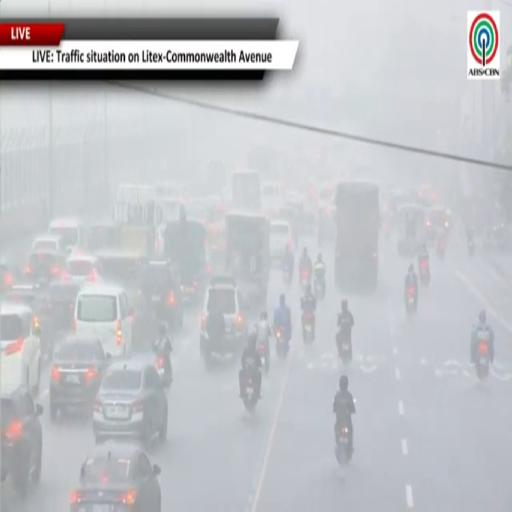car: (70, 442, 161, 511), (93, 360, 167, 442), (49, 338, 110, 421), (0, 387, 43, 494), (75, 284, 133, 357), (200, 277, 248, 362), (0, 301, 41, 393), (5, 283, 52, 356), (140, 262, 183, 328), (44, 281, 81, 335), (24, 250, 65, 285), (48, 218, 86, 251), (63, 252, 101, 283), (270, 219, 293, 263), (87, 220, 117, 252), (32, 234, 65, 252), (0, 261, 15, 292)
motorcycle: (336, 422, 351, 466), (155, 355, 172, 388), (243, 374, 258, 411), (475, 341, 489, 379), (336, 331, 351, 363), (275, 328, 288, 358), (258, 341, 269, 374), (303, 312, 314, 344), (406, 286, 417, 314), (299, 269, 311, 292), (420, 260, 430, 286), (314, 277, 325, 300), (437, 239, 446, 260), (283, 267, 291, 286), (382, 221, 390, 238), (468, 239, 475, 257)
truck: (96, 185, 161, 290), (334, 181, 380, 292), (225, 212, 270, 307), (231, 170, 261, 213)
